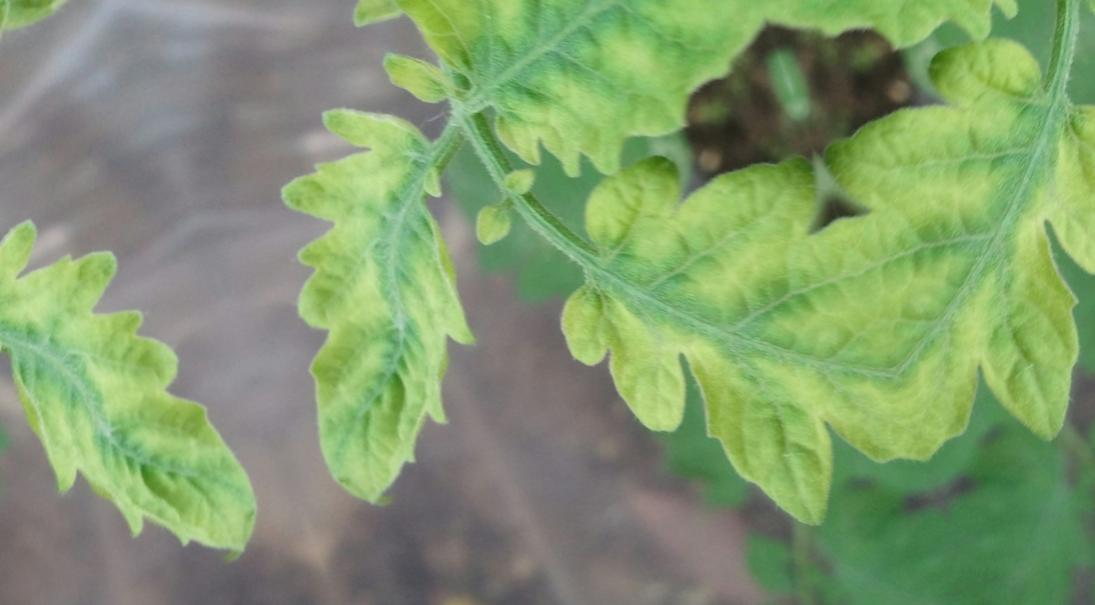Tomato leaf yellow virus: (507, 107, 927, 568), (195, 84, 577, 576), (374, 0, 790, 196), (184, 0, 387, 17), (76, 0, 359, 6)
